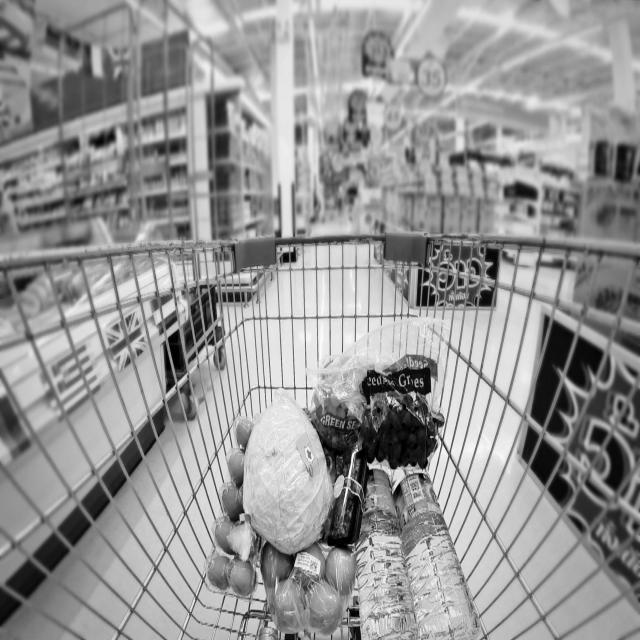bap cai: (241, 395, 332, 557)
nho: (360, 374, 443, 474)
tao: (259, 537, 360, 637)
trung: (208, 413, 260, 598)
